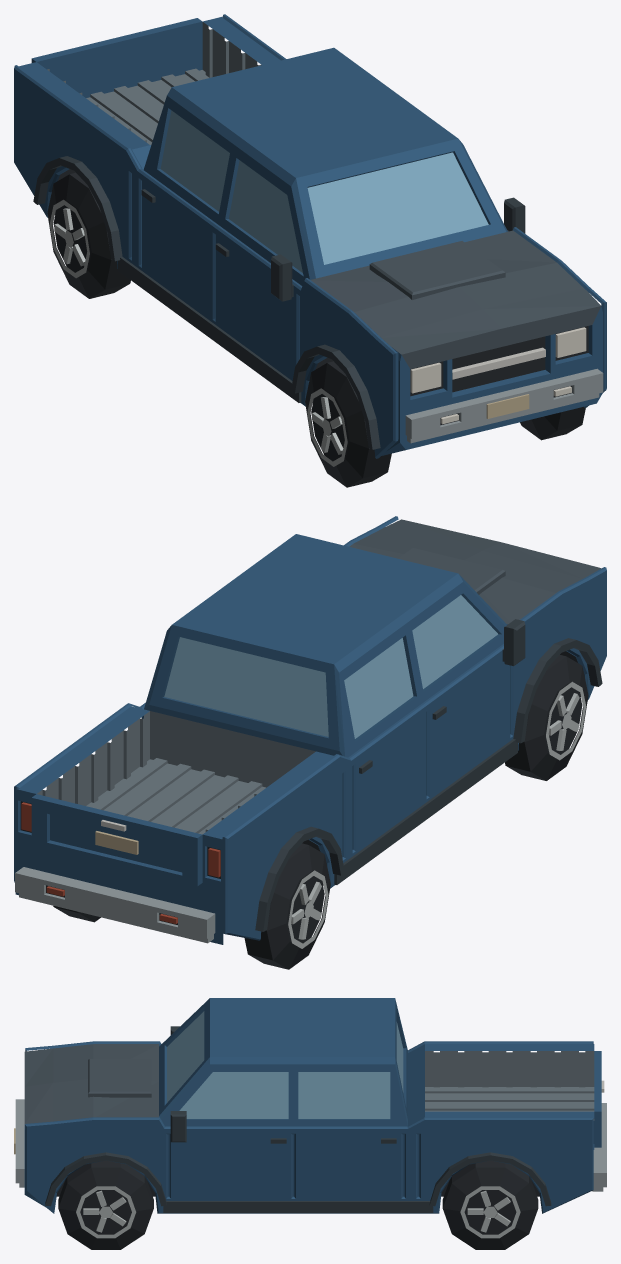
File: suburban-pickup.glb
3 views of the same model, one above another, from view 1: azimuth 30°, elevation 25°; view 2: azimuth 150°, elevation 25°; view 3: azimuth 270°, elevation 25° (orthographic). The views are drawn at different scales.
Parts seen in each view (by area): view 1: object 1, wheel-fr, wheel-rr, wheel-fl; view 2: object 1, wheel-rr, wheel-fr; view 3: object 1, wheel-rl, wheel-fl.
Part boxes in pixels (left/top/right/bottom): object 1: left=14, top=14, right=606, bottom=458; wheel-fr: left=305, top=361, right=391, bottom=487; wheel-rr: left=47, top=172, right=130, bottom=298; wheel-fl: left=520, top=407, right=585, bottom=440; object 1: left=14, top=516, right=606, bottom=944; wheel-rr: left=244, top=843, right=330, bottom=969; wheel-fr: left=505, top=655, right=588, bottom=780; object 1: left=14, top=998, right=606, bottom=1213; wheel-rl: left=442, top=1160, right=538, bottom=1249; wheel-fl: left=58, top=1160, right=153, bottom=1249.
Bounding box in the file's own units: 2 × 1.9 × 5.6.
